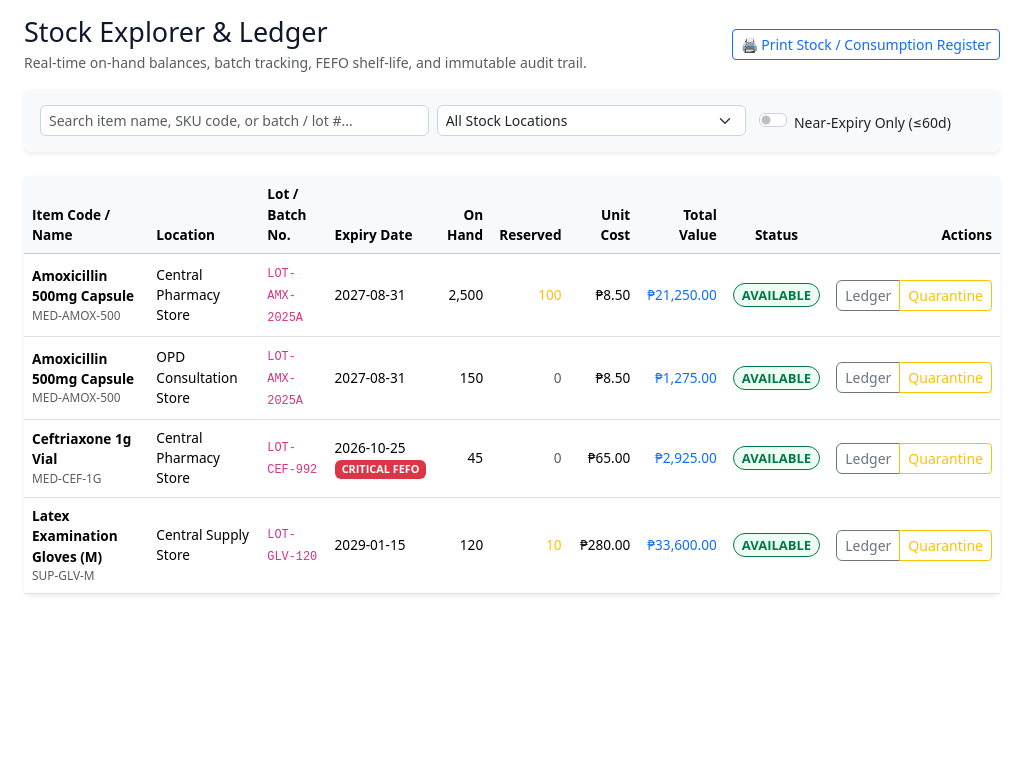
it: StockExplorerPage (todo §4.2, SUP-T8) › opens quarantine modal and requires reason for status change
Click the button "Quarantine" in the row of "2,500" at point(946, 295), box [899,280,992,311]
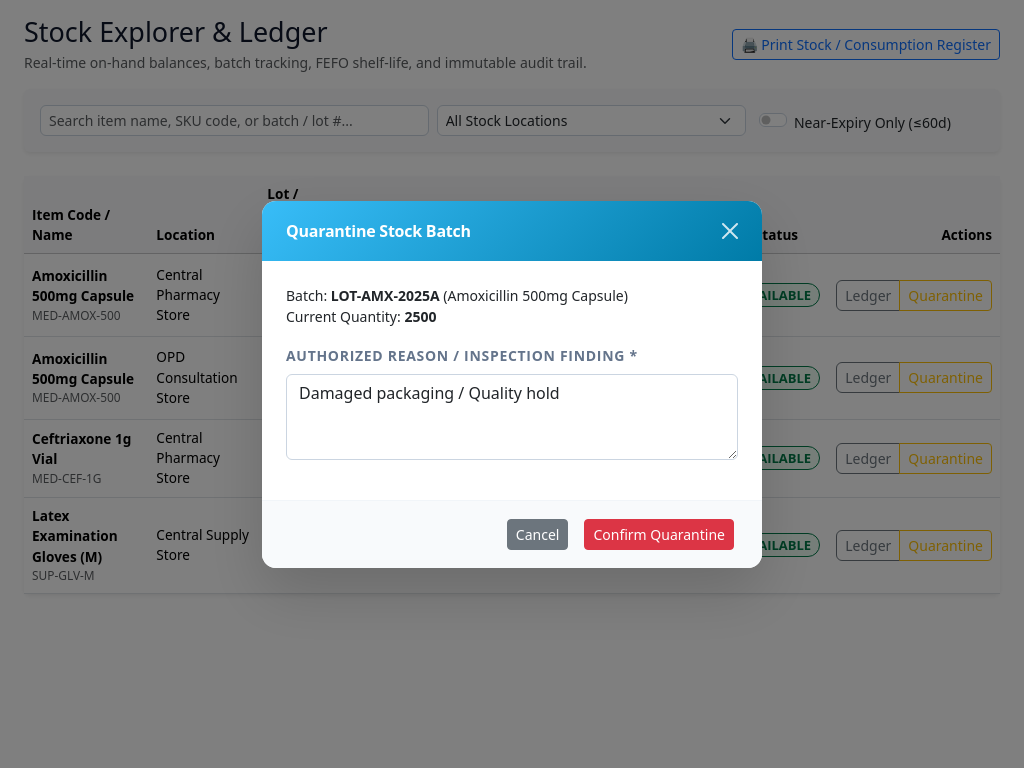
Result: the text "Quarantine Stock Batch" is shown at [286,218,471,242]
Result: the text "Authorized Reason / Inspection Finding *" is shown at [286,344,638,366]
